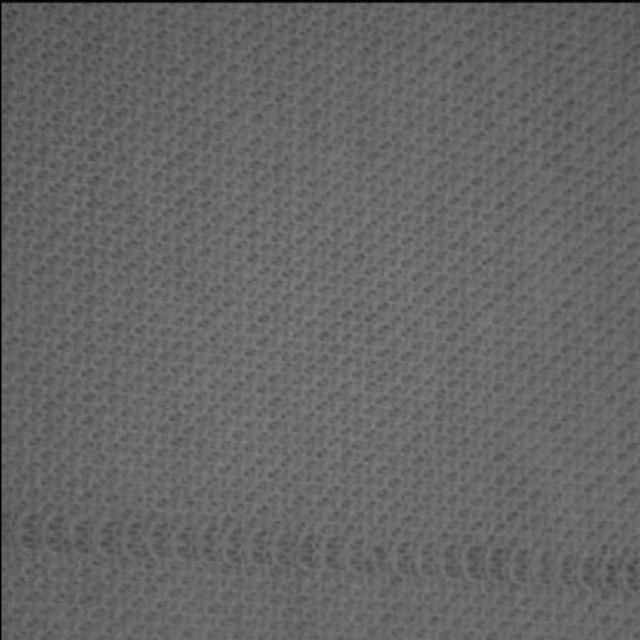Line: (6, 509, 639, 594)
